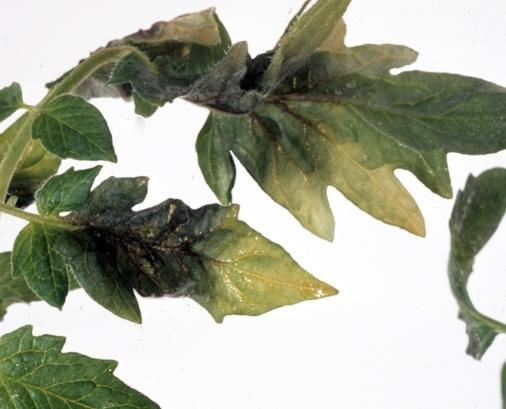Tomato leaf late blight: (196, 45, 506, 239), (16, 173, 344, 333), (0, 310, 215, 409)
